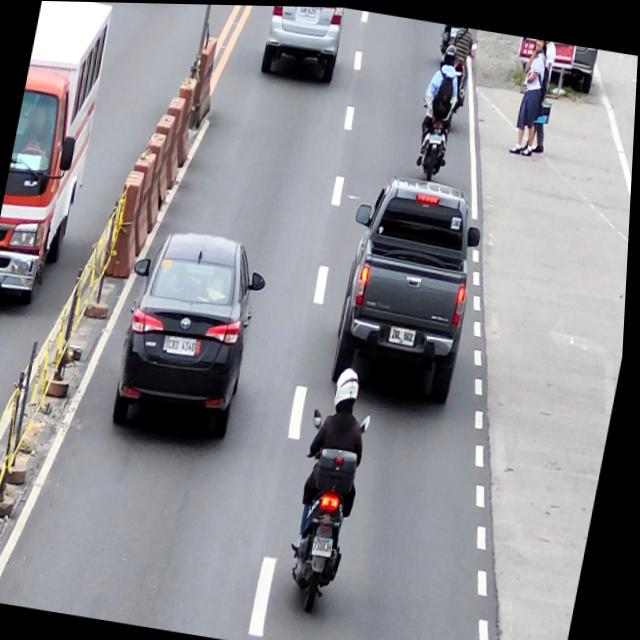Car: (326, 166, 494, 404), (109, 224, 275, 444), (260, 5, 347, 83)
License-Plate: (170, 335, 201, 356), (391, 325, 421, 346), (317, 535, 339, 557), (299, 5, 318, 18), (430, 132, 443, 143)
Motorcycle: (283, 402, 376, 616), (411, 78, 463, 183), (441, 35, 477, 117)
